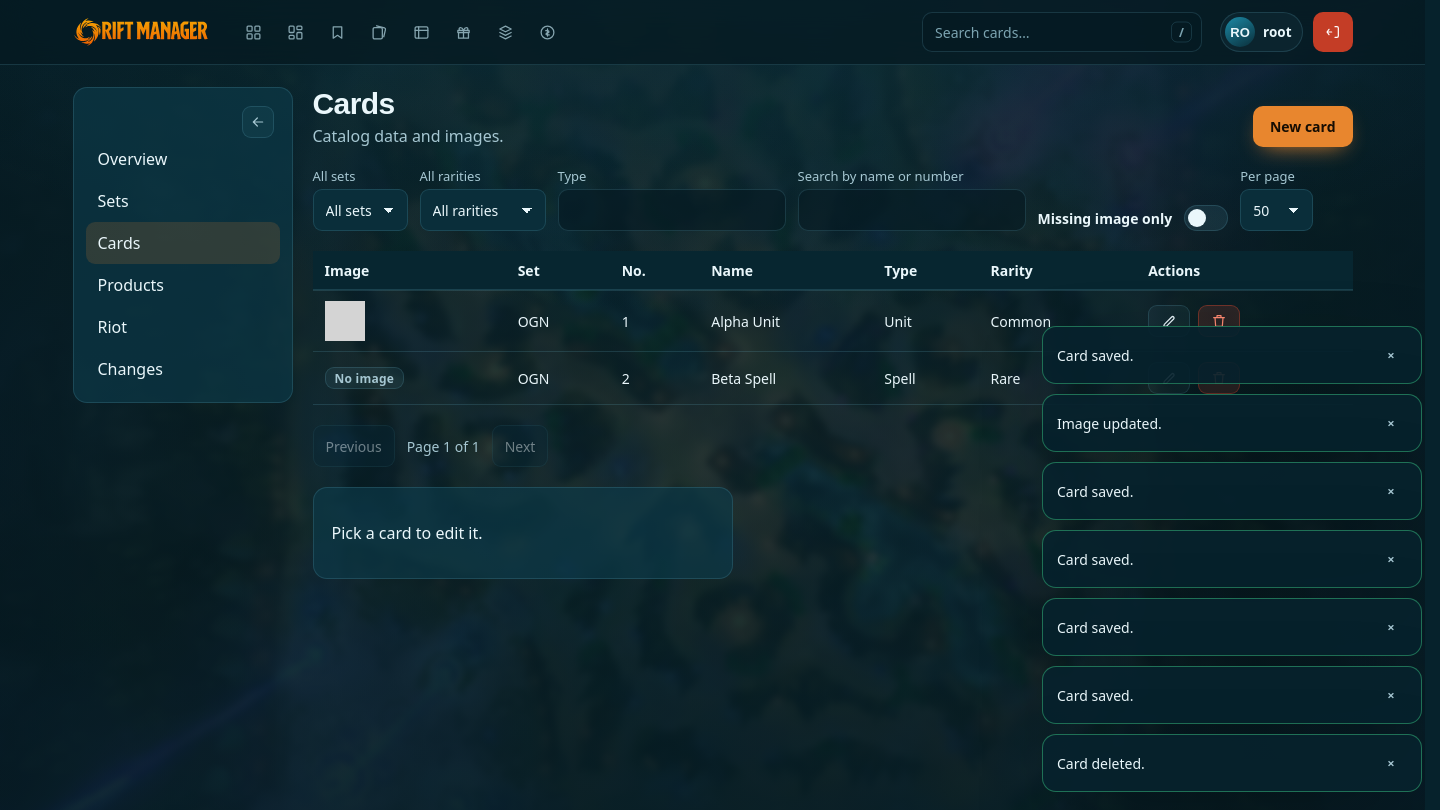
Test case: CardsAdminPage editor and row actions (owner feedback S20) › "Delete" asks first, then deletes and refreshes at 1700 px
What coordinates should you click on to do the following:
click the button named "Delete Alpha Unit"
I would click on:
 (1219, 321)
Its box is 1198,305 -> 1240,337.
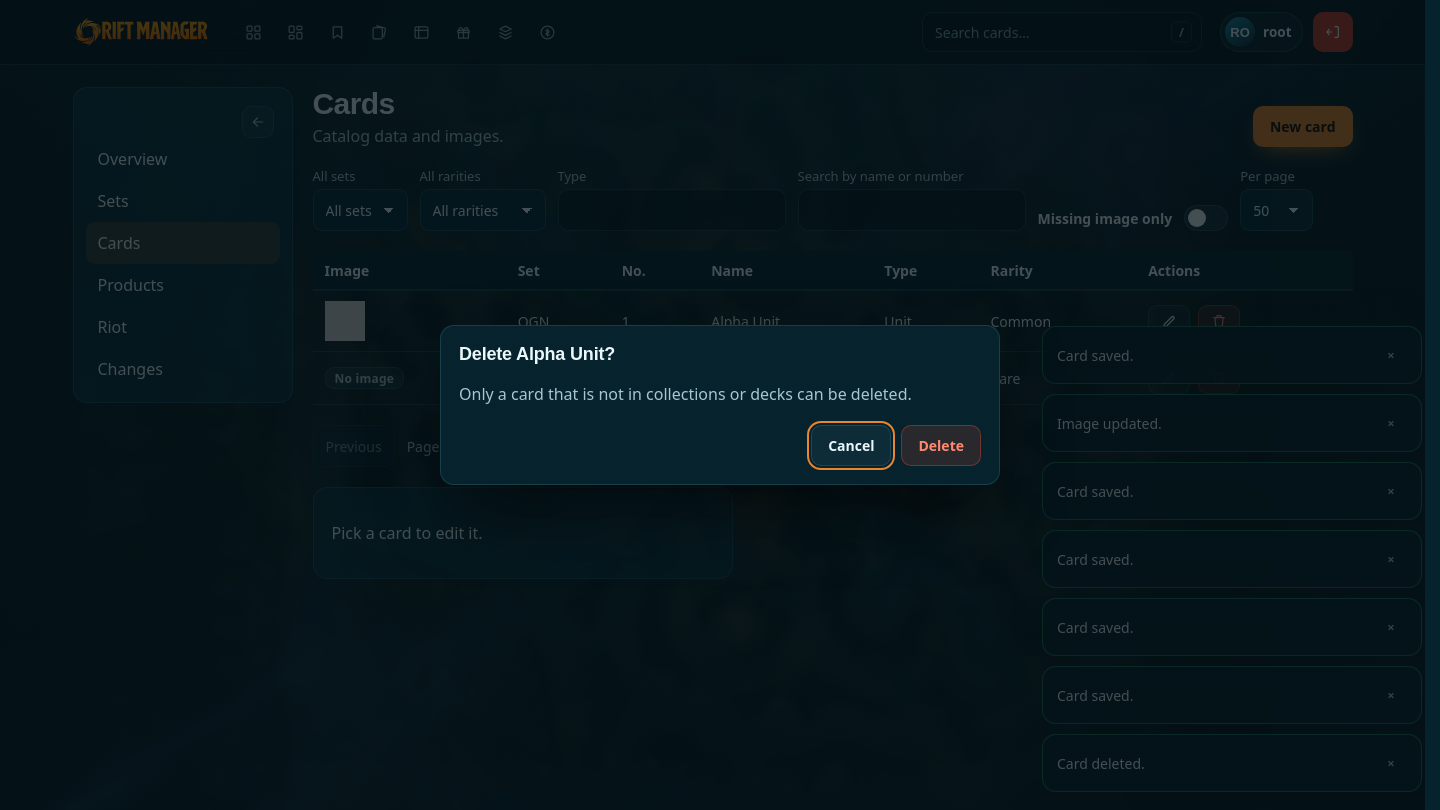
What coordinates should you click on to do the following:
click the button "Delete"
I would click on:
 (941, 446)
Its box is 902,425 -> 981,466.
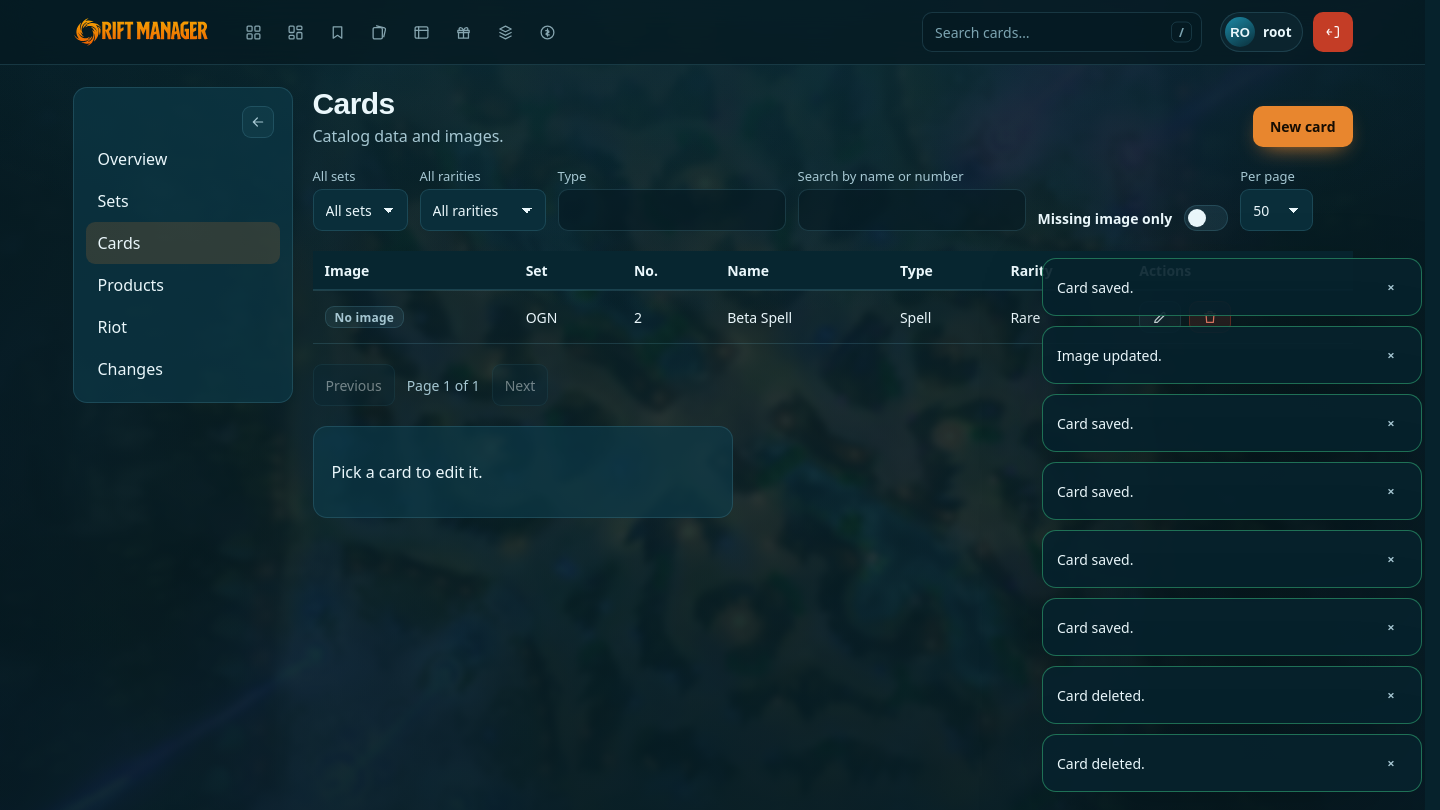
Expected: the 1st text "Card deleted." is shown, 1057,686 -> 1145,704
Now the cell "Alpha Unit" is gone
Now the heading "Delete Alpha Unit?" is gone
